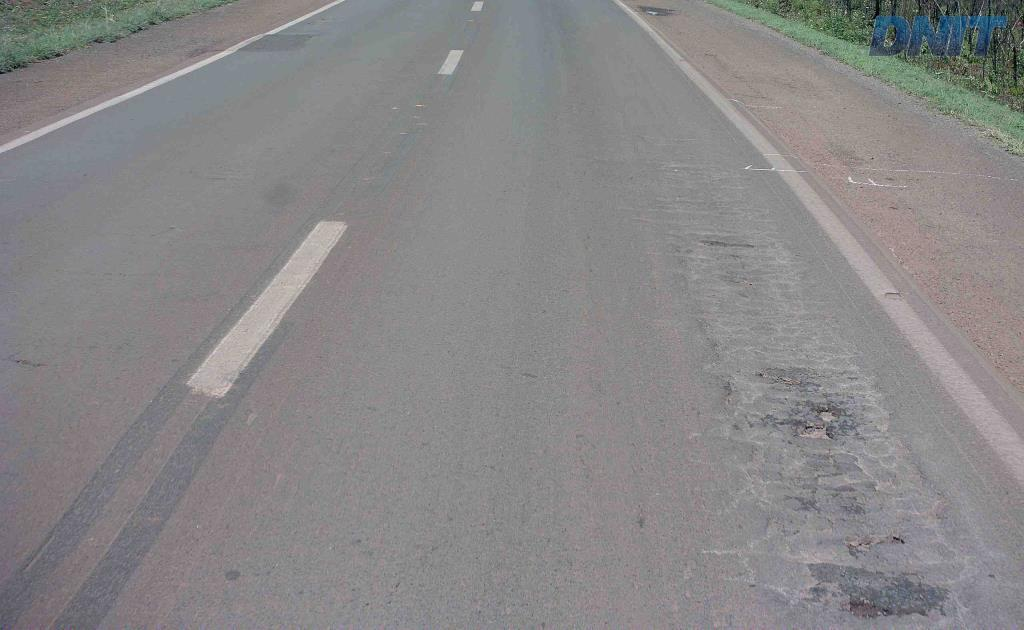crack: (760, 399, 860, 440)
pothole: (788, 395, 857, 446), (854, 521, 913, 554), (841, 590, 889, 618)
